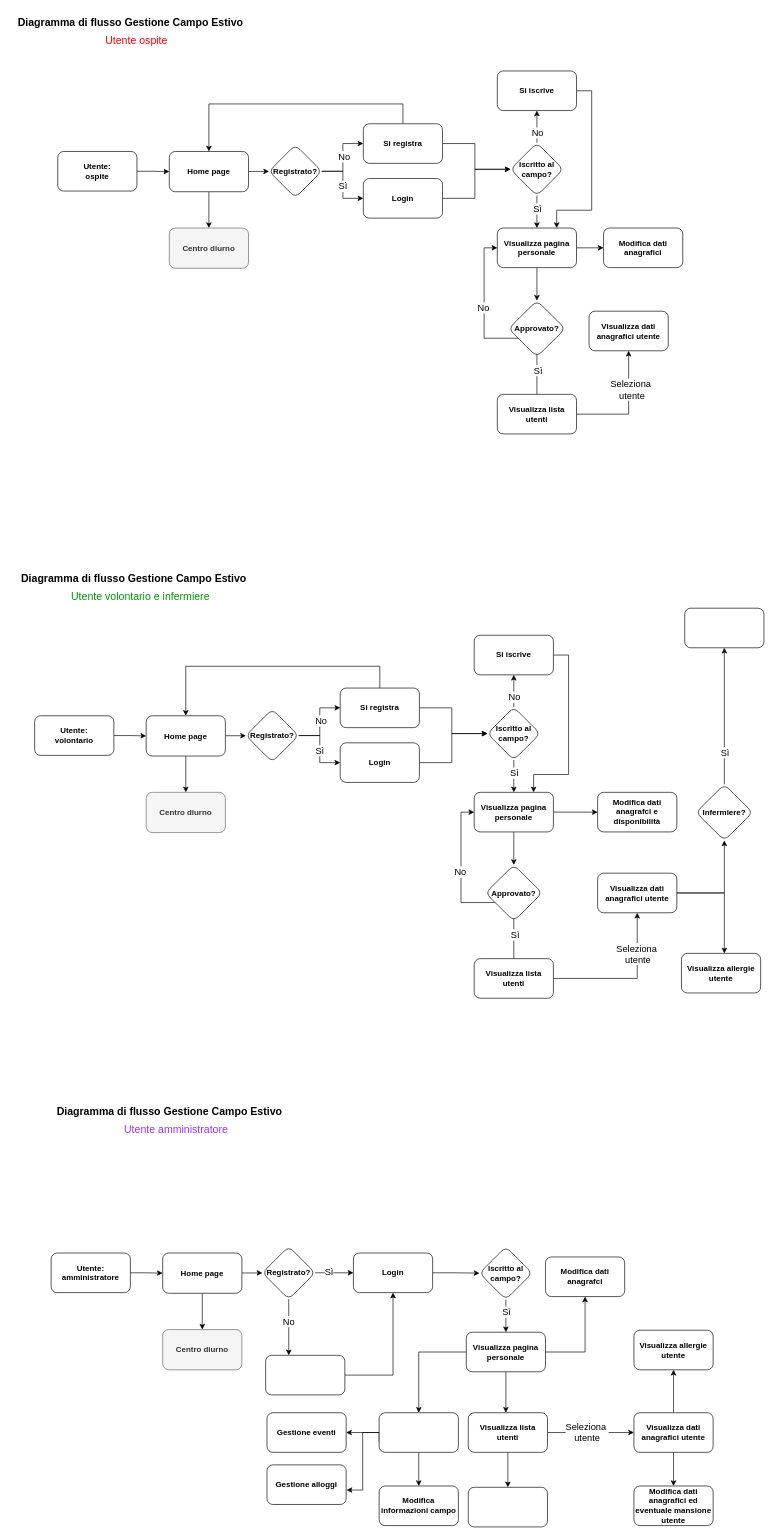
The diagram is 776 pixels wide and 1538 high, and some of its shapes have lost their labels. The shapes that lost their labels are listed below. From the top down, each one's centre as x and y in pixels, then its label:
At (x=724, y=628): "Visualizza e modifica dati sanitari utente".
At (x=305, y=1375): "Amministratore crea utente".
At (x=418, y=1432): "Visualizza pagina modifica campo".
At (x=507, y=1507): "Può creare utente".
